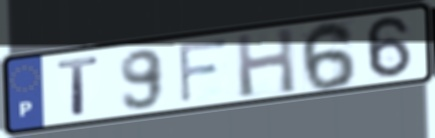6: (298, 19, 359, 92), (364, 13, 417, 82)
9: (117, 47, 165, 111)
F: (176, 36, 231, 107)
H: (232, 25, 299, 100)
T: (55, 54, 103, 118)
